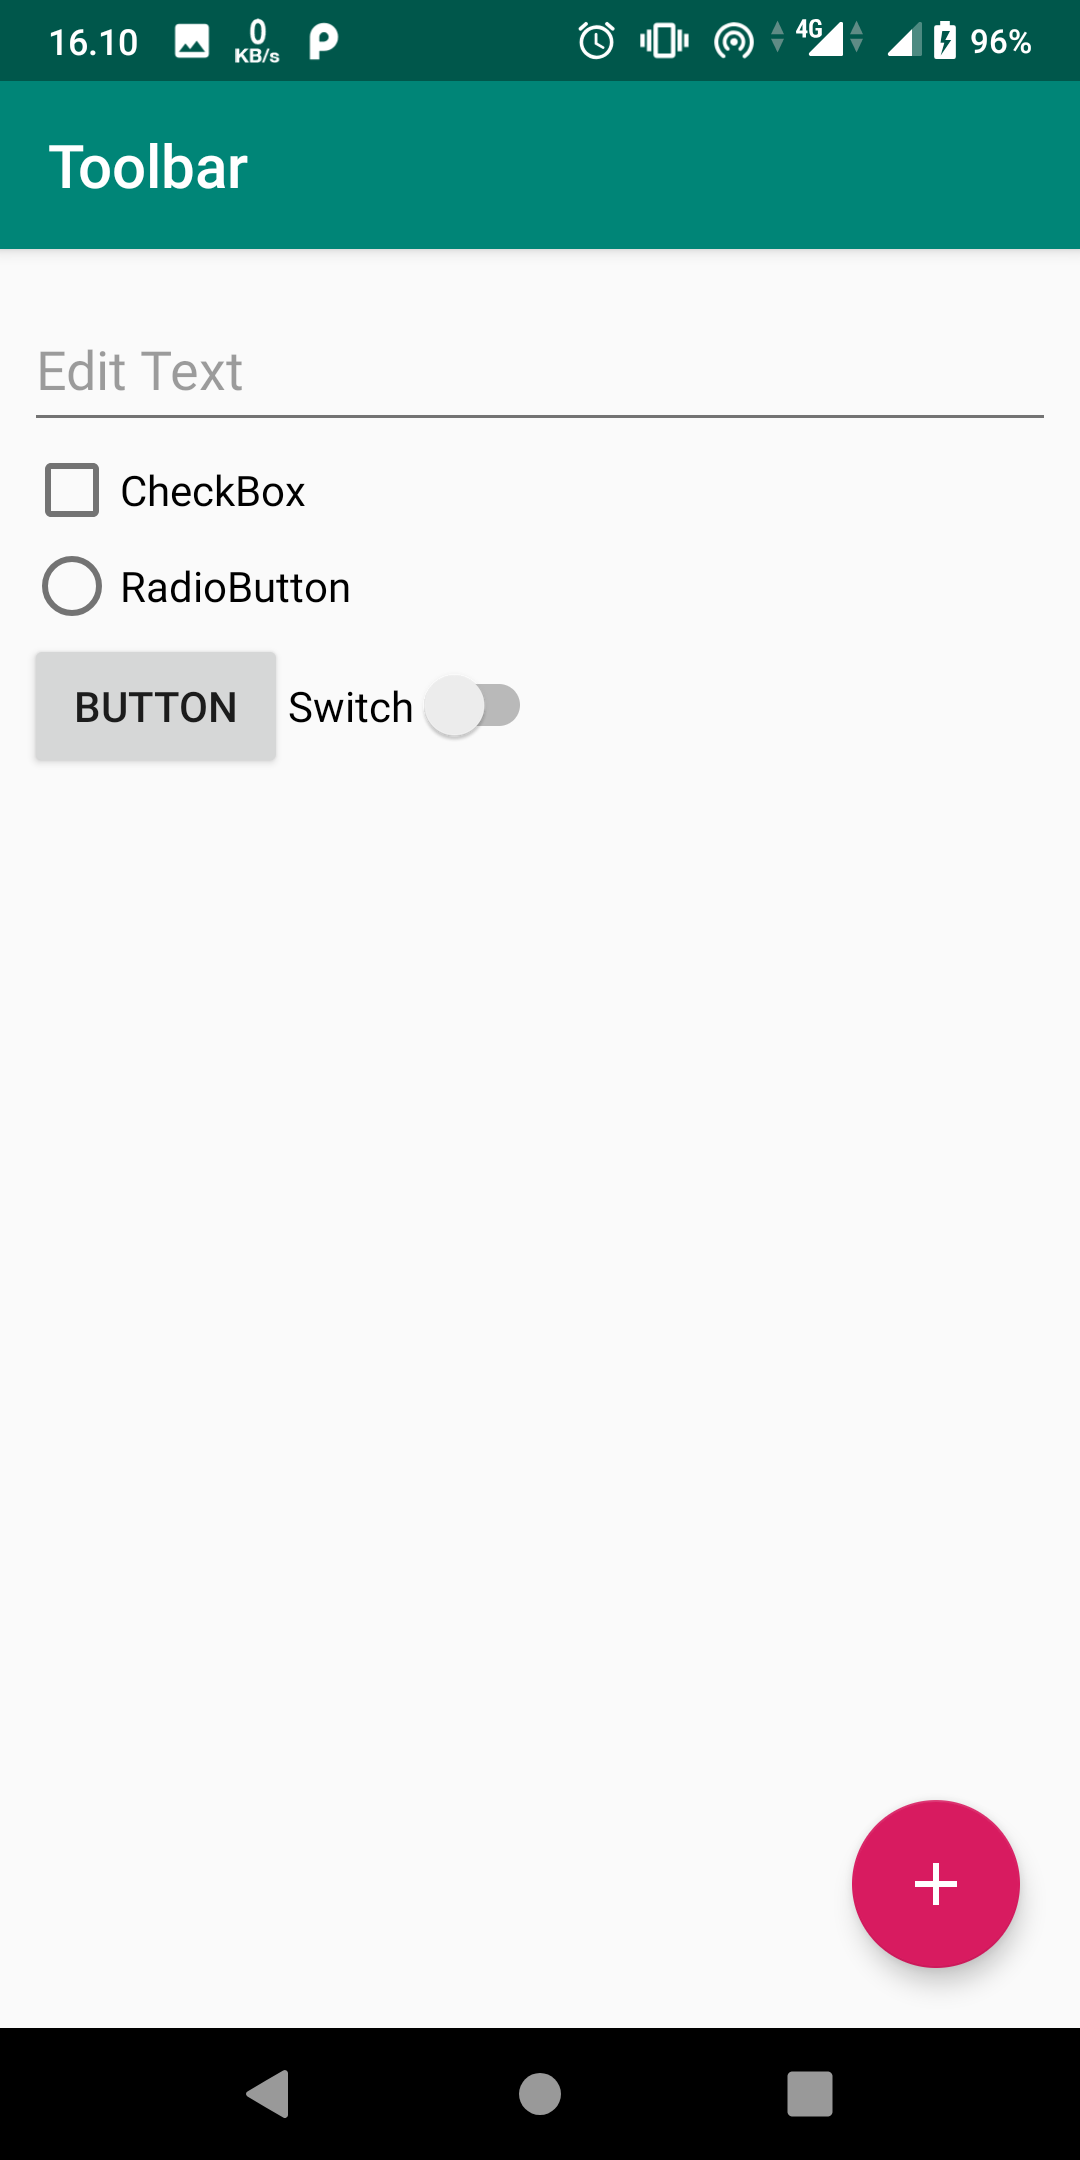button: (23, 641, 288, 780)
checkBox: (36, 455, 317, 525)
editText: (21, 337, 1055, 444)
floatingButton: (833, 1787, 1036, 1973)
radioButton: (33, 541, 360, 628)
switch: (285, 674, 546, 748)
toolbar: (4, 80, 1080, 251)
